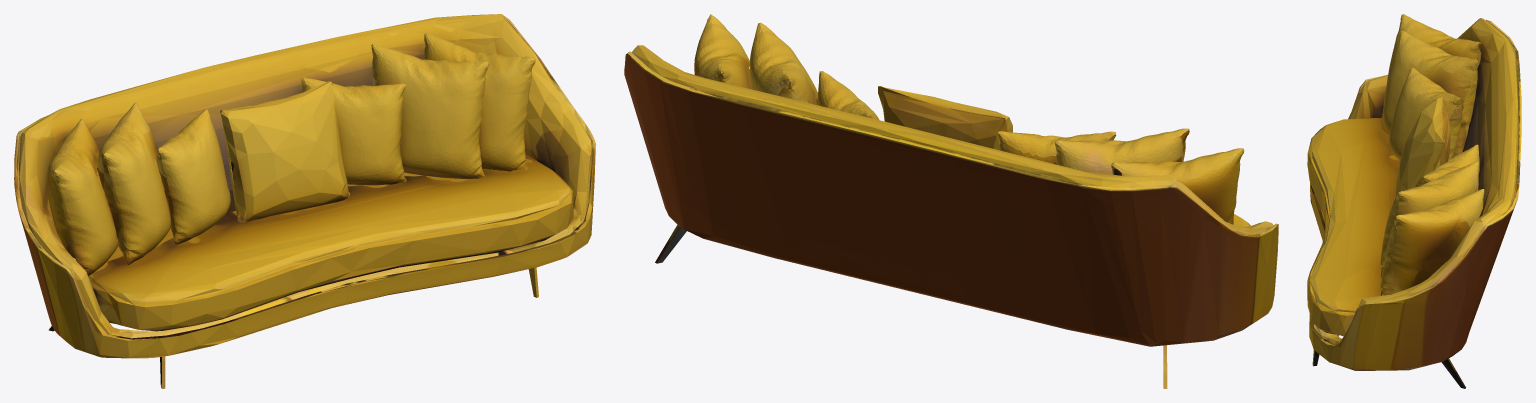
File: edited_mesh.glb
The picture shows the model from 3 angles, left to right: view 1: azimuth 30°, elevation 25°; view 2: azimuth 150°, elevation 25°; view 3: azimuth 270°, elevation 25°; orthographic projection. The views are drawn at different scales.
Visible parts, largest first — view 1: solid_001_wire; view 2: solid_001_wire; view 3: solid_001_wire.
Boxes of the visible parts, x1,y1,x2,y2 form: solid_001_wire: (14,14,595,388); solid_001_wire: (624,14,1278,388); solid_001_wire: (1307,14,1521,388).
Size of the model in its own units: 2 by 0.7102 by 0.7886.
1 material, 1 textured.
